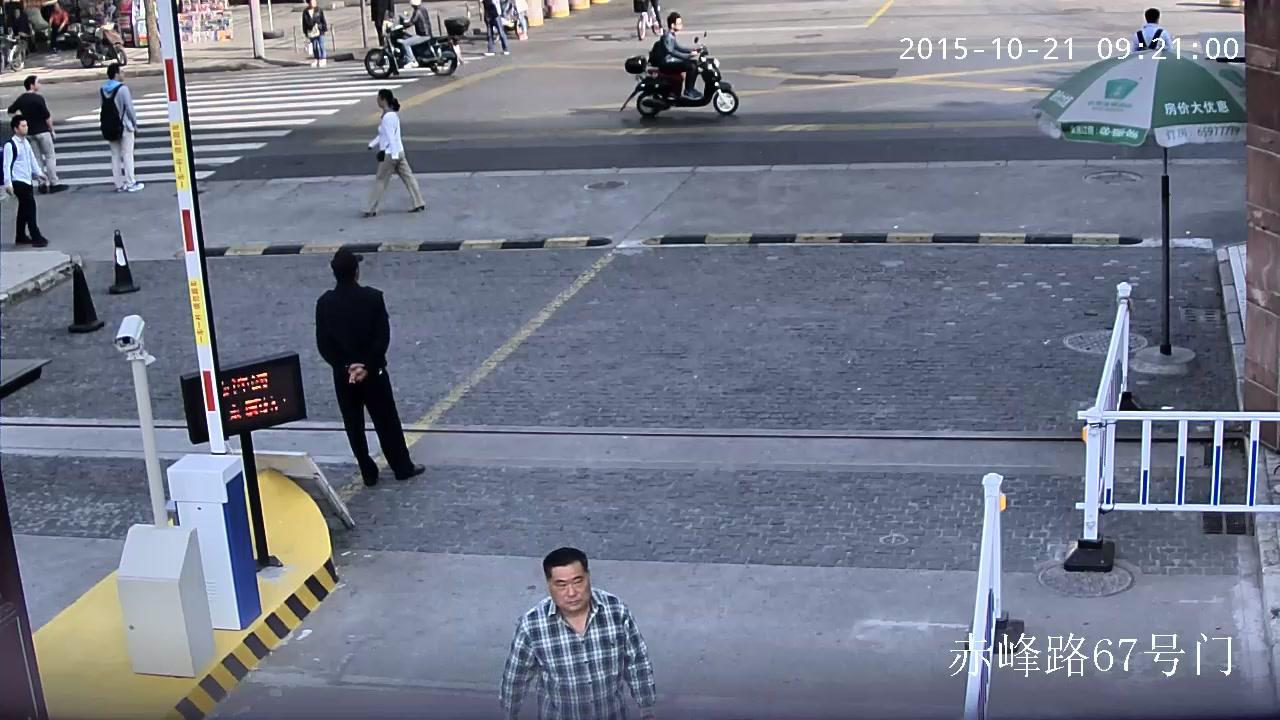person: (498, 546, 657, 720), (316, 247, 426, 487), (619, 11, 739, 118), (358, 88, 425, 216), (363, 0, 469, 78), (6, 75, 67, 194), (0, 115, 48, 246), (97, 62, 144, 192), (648, 11, 702, 99), (391, 0, 432, 69), (301, 0, 328, 68), (1133, 7, 1171, 54), (480, 0, 509, 57), (632, 0, 663, 40), (370, 0, 395, 47), (47, 2, 67, 56), (7, 9, 30, 53), (642, 0, 662, 34), (512, 0, 528, 39)
